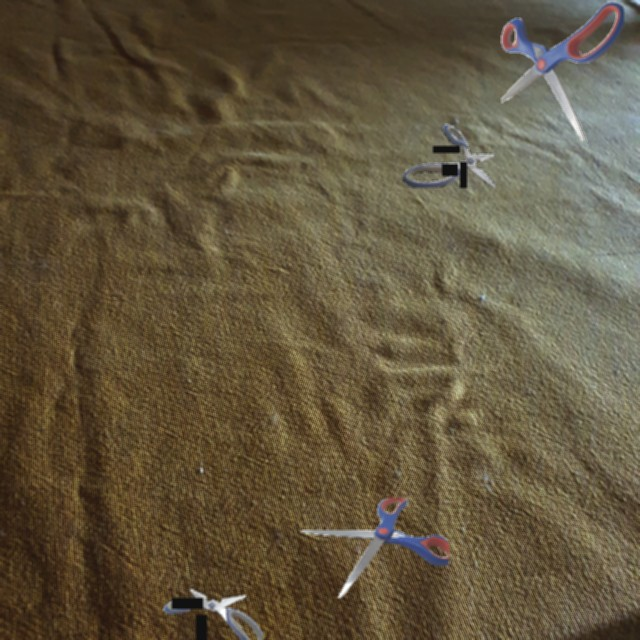scissors: (501, 2, 624, 141), (300, 498, 449, 598), (402, 124, 496, 188), (163, 588, 263, 640)
